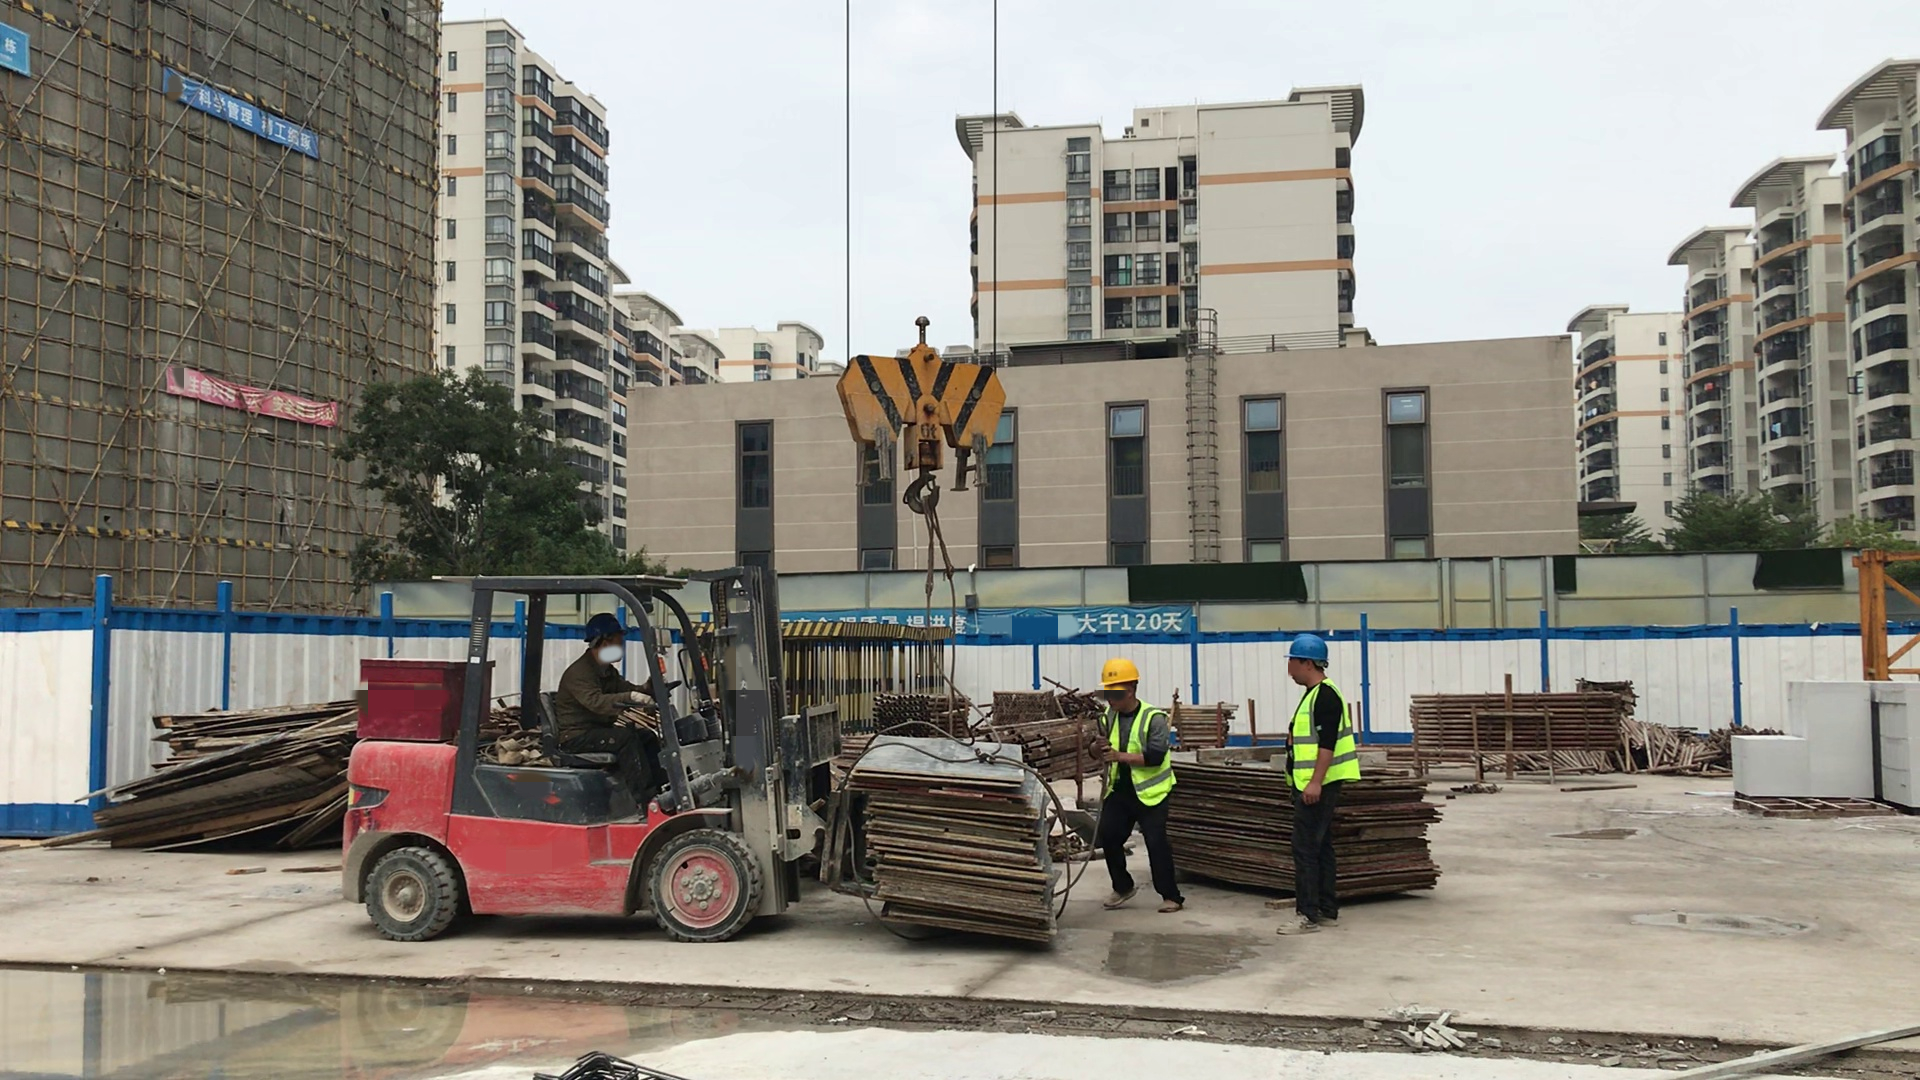board: (849, 731, 1066, 949), (77, 695, 344, 858), (1175, 741, 1293, 917), (1347, 765, 1449, 901)
brick: (1728, 671, 1879, 802), (1871, 678, 1920, 816)
helmet: (582, 612, 628, 646), (1284, 635, 1330, 668), (1097, 655, 1142, 688)
hook: (836, 316, 1013, 528)
person: (1279, 632, 1361, 939), (1097, 653, 1185, 917), (553, 610, 662, 815)
scaffold: (1407, 688, 1624, 750), (1180, 697, 1240, 748)
slogan: (166, 67, 317, 156), (167, 361, 339, 426), (978, 612, 1187, 634), (1, 16, 25, 71)
vest: (1096, 704, 1178, 811), (1285, 683, 1361, 795)
